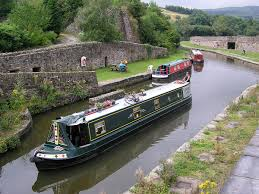boat: (30, 78, 192, 174)
